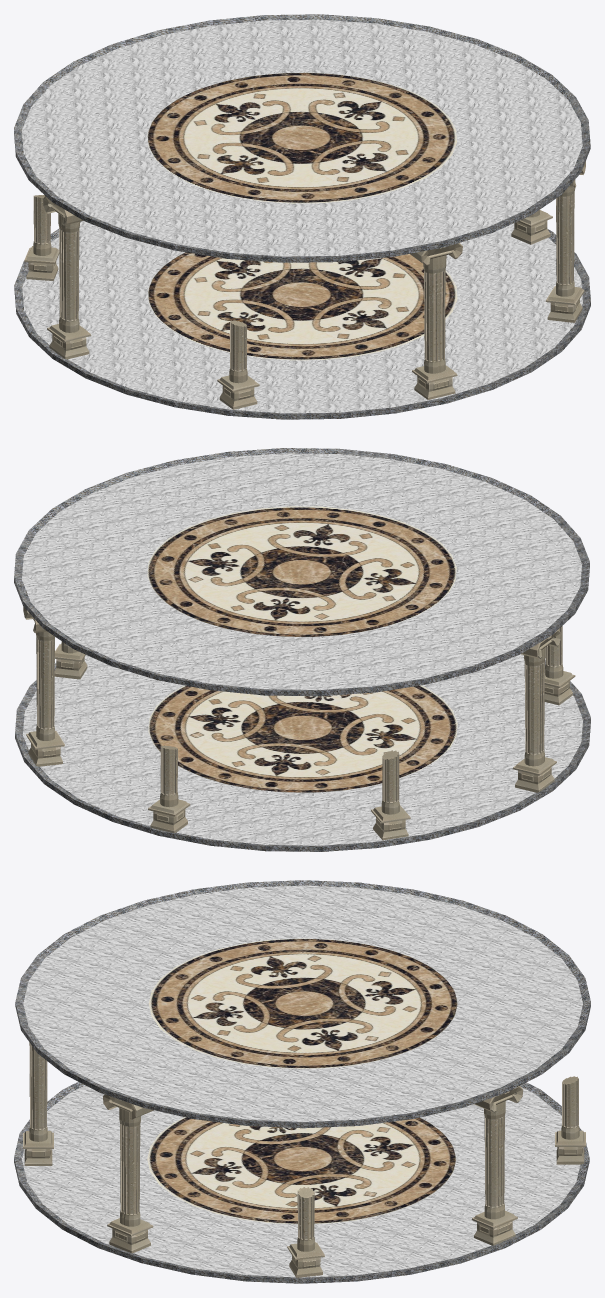
File: mat_san.fbx
The picture shows the model from 3 angles, top to bottom: view 1: azimuth 30°, elevation 25°; view 2: azimuth 150°, elevation 25°; view 3: azimuth 270°, elevation 25°; orthographic projection.
Parts seen in each view (by area): view 1: san.001, san, cot, cot.001, cot.002, cotngan1, cotngan2, cotngan4; view 2: san.001, san, cot.001, cot.003, cotnan3, cotngan2, cotngan1, cotngan4; view 3: san.001, san, cot.002, cot.003, cot, cotngan4, cotnan3.
Part boxes in pixels (x1,y1,x2,y2): san.001: [14, 14, 590, 262]; san: [14, 220, 590, 419]; cot: [410, 243, 462, 399]; cot.001: [43, 196, 91, 359]; cot.002: [545, 161, 585, 322]; cotngan1: [217, 320, 259, 409]; cotngan2: [24, 195, 59, 280]; cotngan4: [511, 210, 552, 244]; san.001: [14, 448, 589, 696]; san: [15, 654, 590, 851]; cot.001: [513, 629, 560, 792]; cot.003: [23, 607, 64, 766]; cotnan3: [148, 745, 190, 832]; cotngan2: [371, 750, 410, 840]; cotngan1: [544, 626, 575, 705]; cotngan4: [54, 641, 87, 679]; san.001: [15, 880, 590, 1128]; san: [14, 1081, 589, 1283]; cot.002: [103, 1094, 153, 1253]; cot.003: [471, 1086, 523, 1245]; cot: [23, 1042, 53, 1165]; cotngan4: [287, 1187, 324, 1277]; cotnan3: [555, 1076, 585, 1164].
Bounding box in the file's own units: 4171 × 1283 × 4180.
